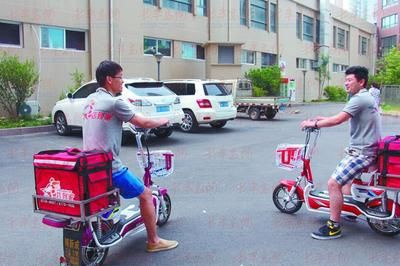non-vehicle: (52, 109, 183, 261), (271, 121, 397, 234)
